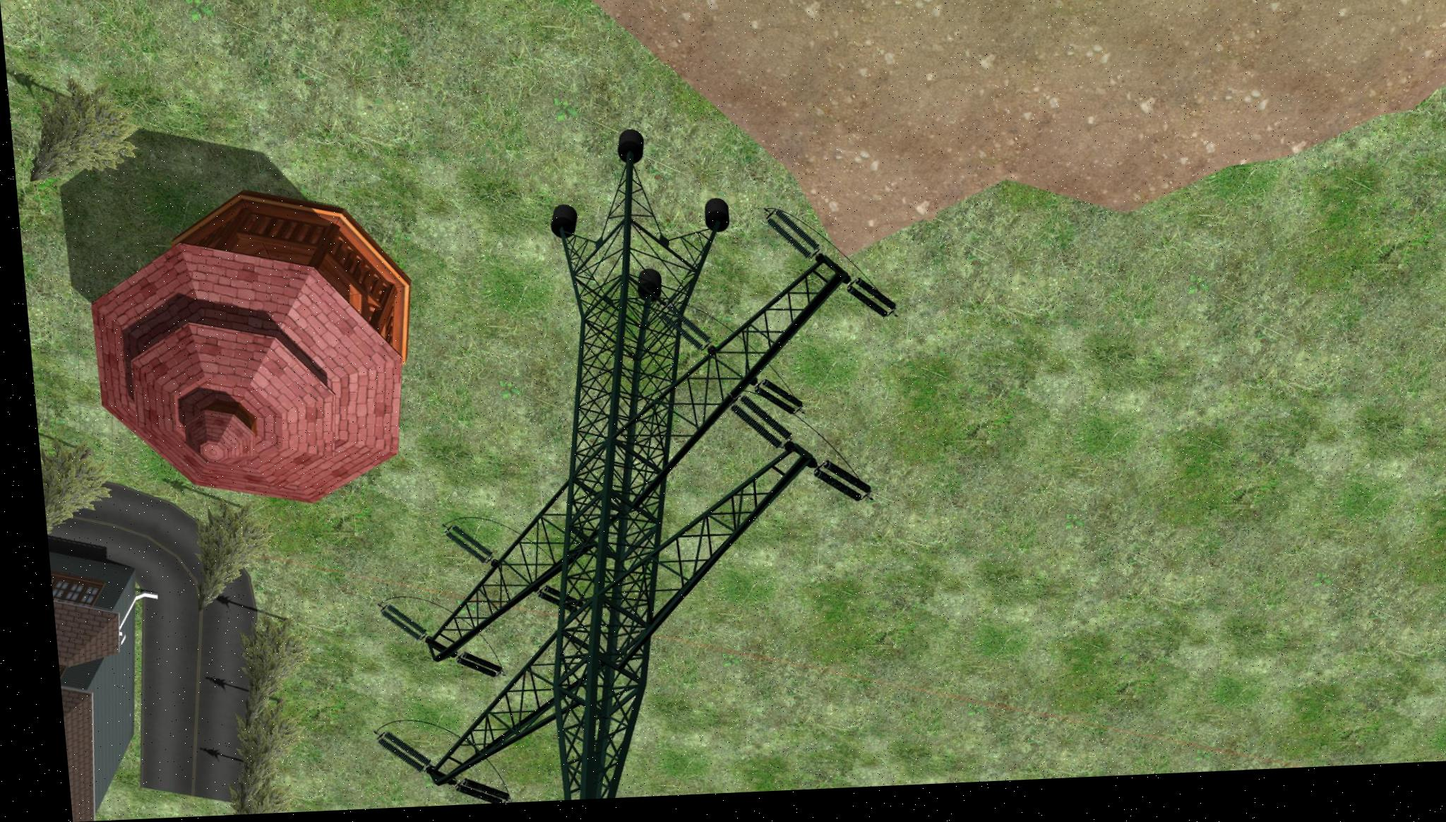tower: (384, 152, 894, 806)
